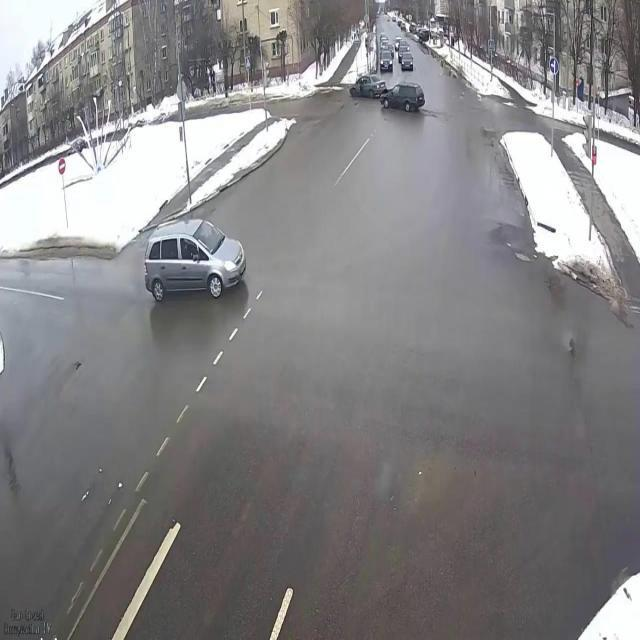normal: (141, 209, 253, 319), (347, 70, 446, 134)
